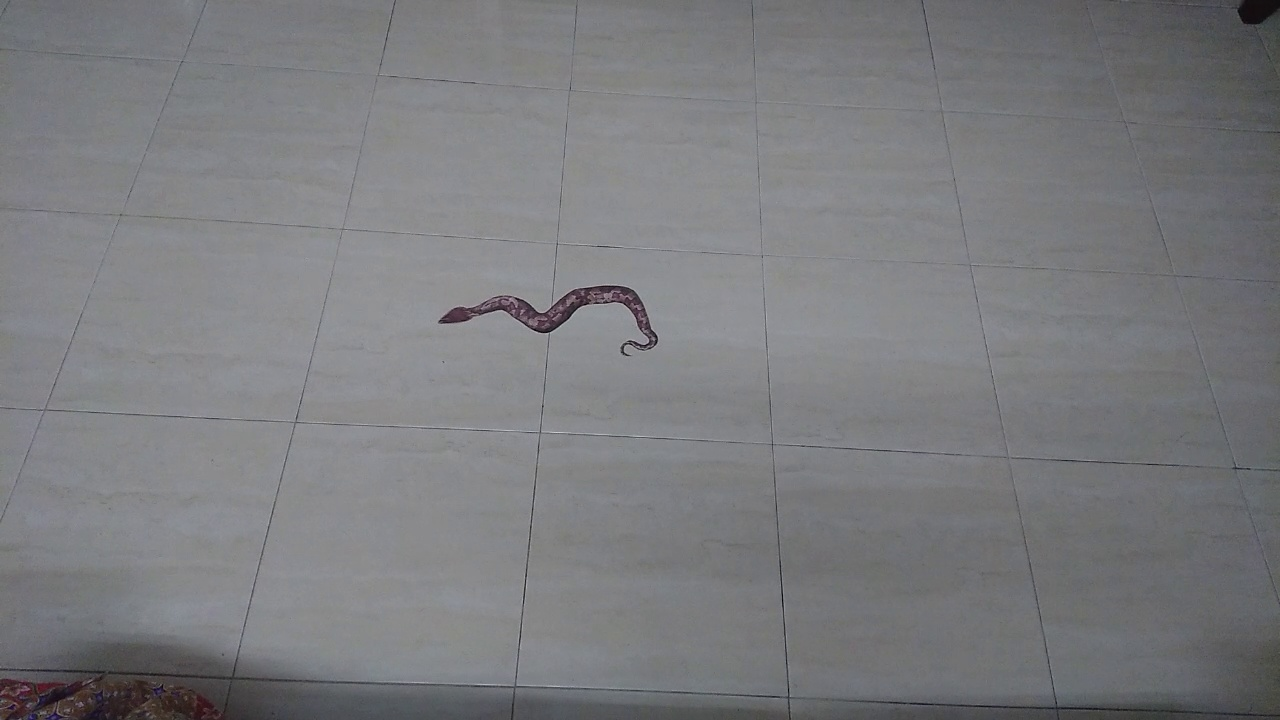snake: (420, 265, 673, 375)
